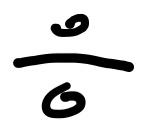div: (12, 14, 137, 119)
